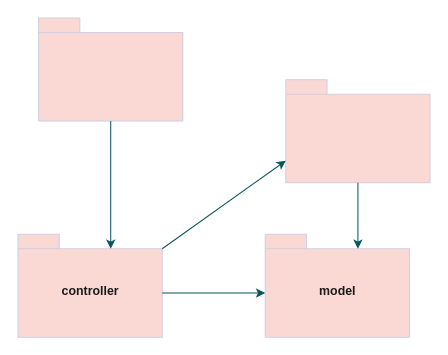
This 448x355 diagram has some shape labels left out. Each missing label, with the box of its shape:
application: (38, 17, 183, 121)
view: (285, 79, 430, 183)
